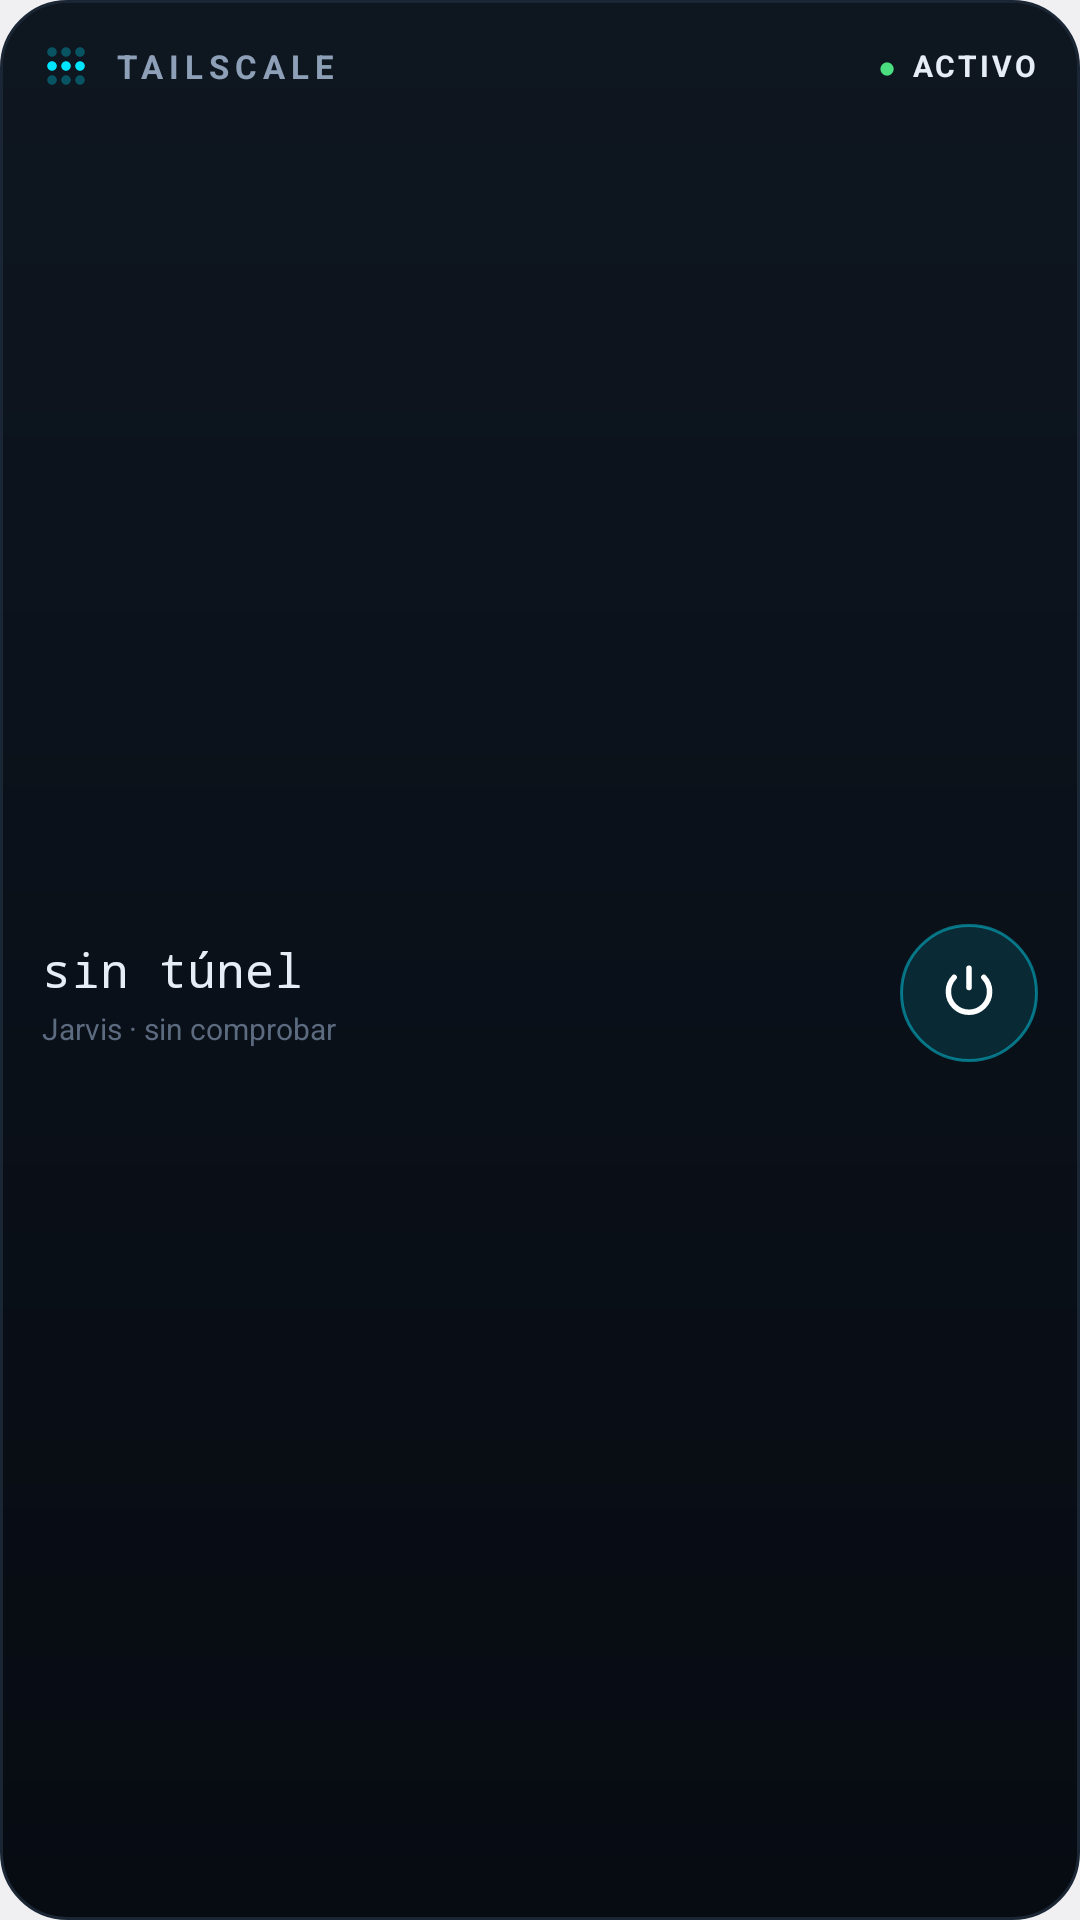

Icons on this 1080×1920 Android screen, each with the point to tap as (x,y):
Activar o desactivar Tailscale: (969,990)
